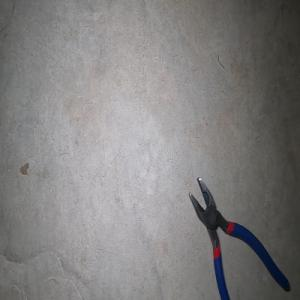Pliers: (188, 176, 290, 300)
